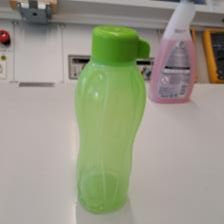bottle: (74, 21, 151, 214)
